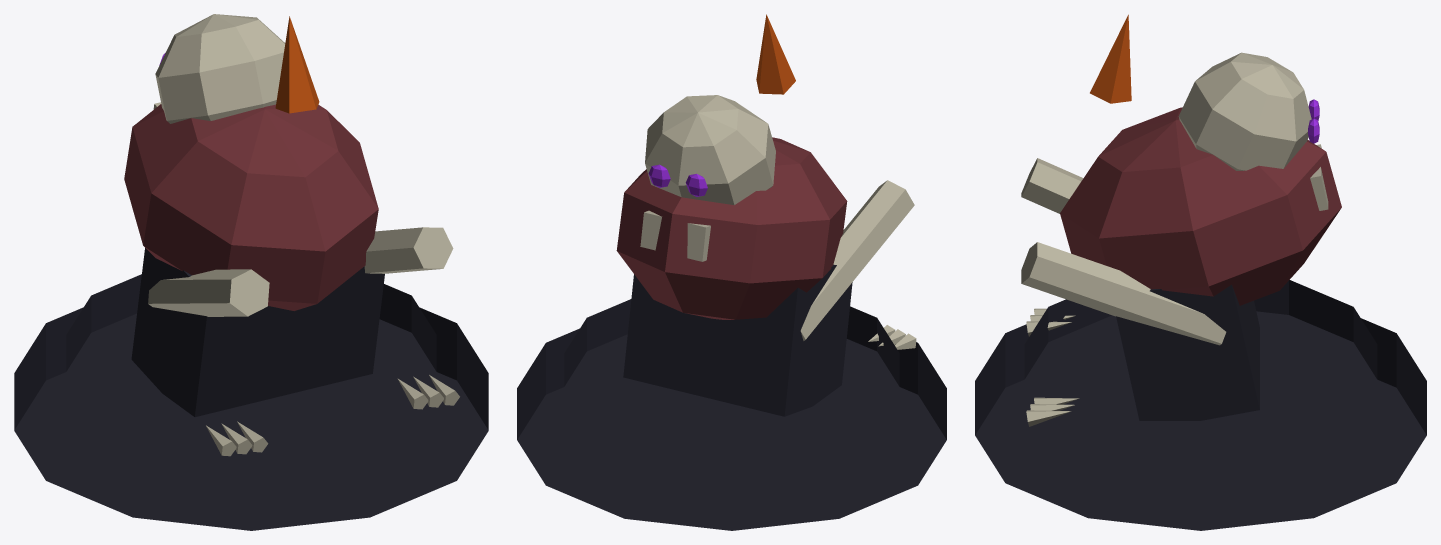
Rendered from pawn_rampant.obj.
3 renders of one model, left to right at view 1: azimuth 30°, elevation 25°; view 2: azimuth 150°, elevation 25°; view 3: azimuth 270°, elevation 25°, orthographic. The views are drawn at different scales.
Visible parts, largest first — view 1: pawn_rampant; view 2: pawn_rampant; view 3: pawn_rampant.
Boxes of the visible parts, left/top/right/bottom form: pawn_rampant: left=14, top=14, right=488, bottom=530; pawn_rampant: left=517, top=14, right=946, bottom=530; pawn_rampant: left=975, top=14, right=1426, bottom=530.
Size of the model in its own units: 0.6 by 0.6176 by 0.6.
